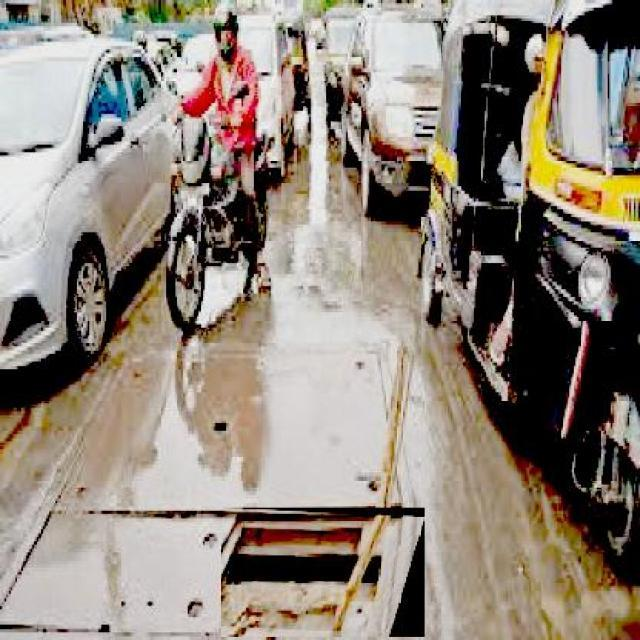Manhole: (68, 361, 409, 488), (10, 506, 213, 640), (219, 509, 424, 638)
